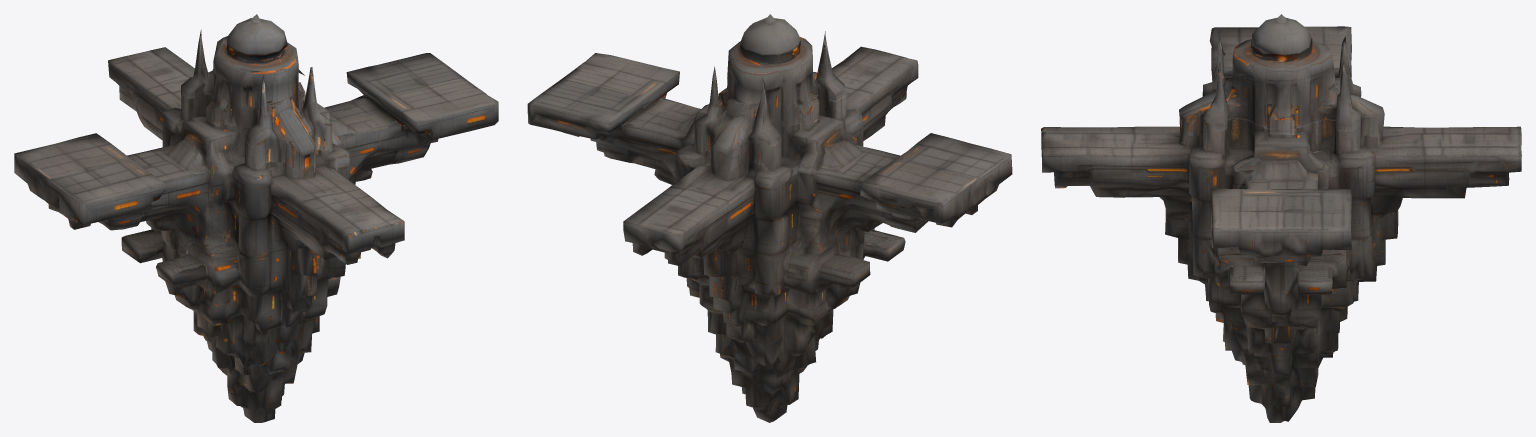
File: station.glb
The picture shows the model from 3 angles, left to right: view 1: azimuth 30°, elevation 25°; view 2: azimuth 150°, elevation 25°; view 3: azimuth 270°, elevation 25°; orthographic projection.
Size of the model in its own units: 2.01 by 1.86 by 2.01.
1 material, 1 textured.
